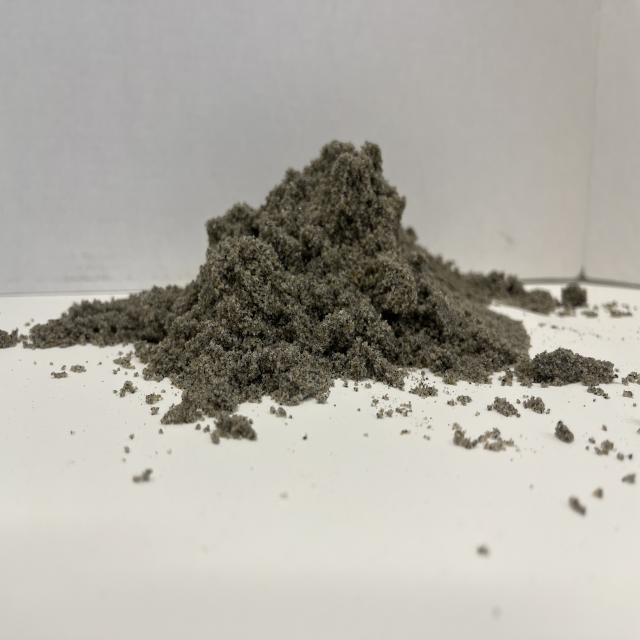sand: (63, 124, 556, 423)
